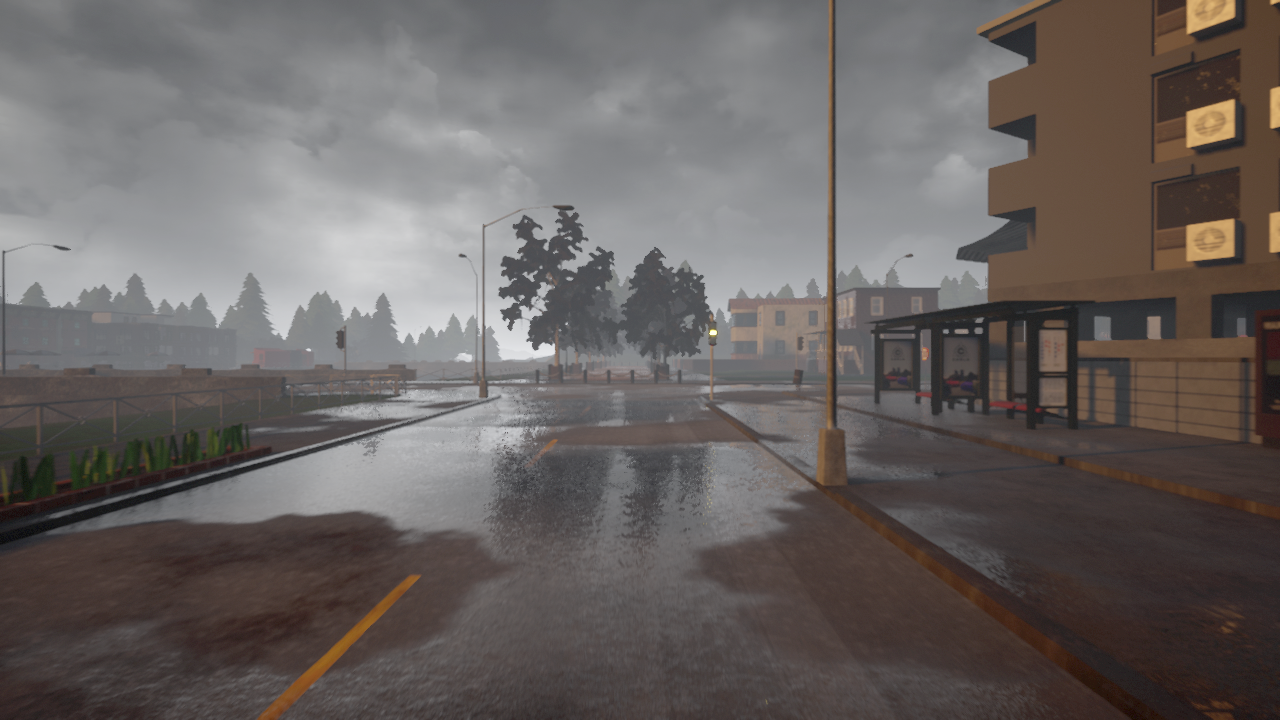yellow: (707, 321, 719, 346)
